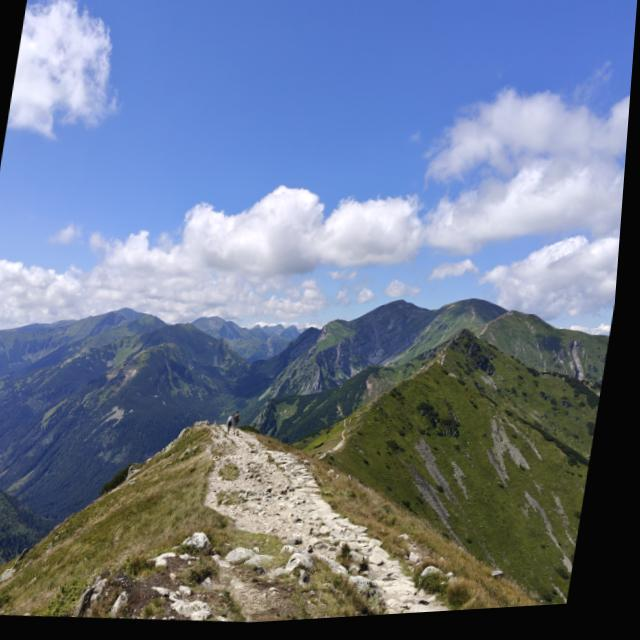Banikov: (233, 279, 323, 368)
Bystra: (76, 257, 178, 360)
Kopa Kondracka: (451, 254, 580, 369)
Krzesanica: (345, 244, 455, 353)
Malolaczniak: (420, 249, 530, 347)
Polska Tomanova: (133, 276, 235, 370)
Smreciny: (104, 274, 192, 359)
Velka Kamenista: (71, 276, 158, 349)
